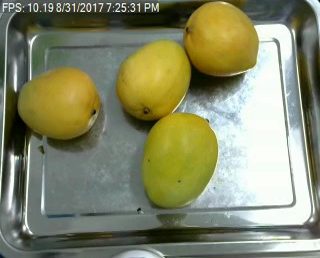Mango: (142, 114, 220, 206), (14, 66, 105, 144), (116, 39, 191, 117), (182, 2, 262, 74)
